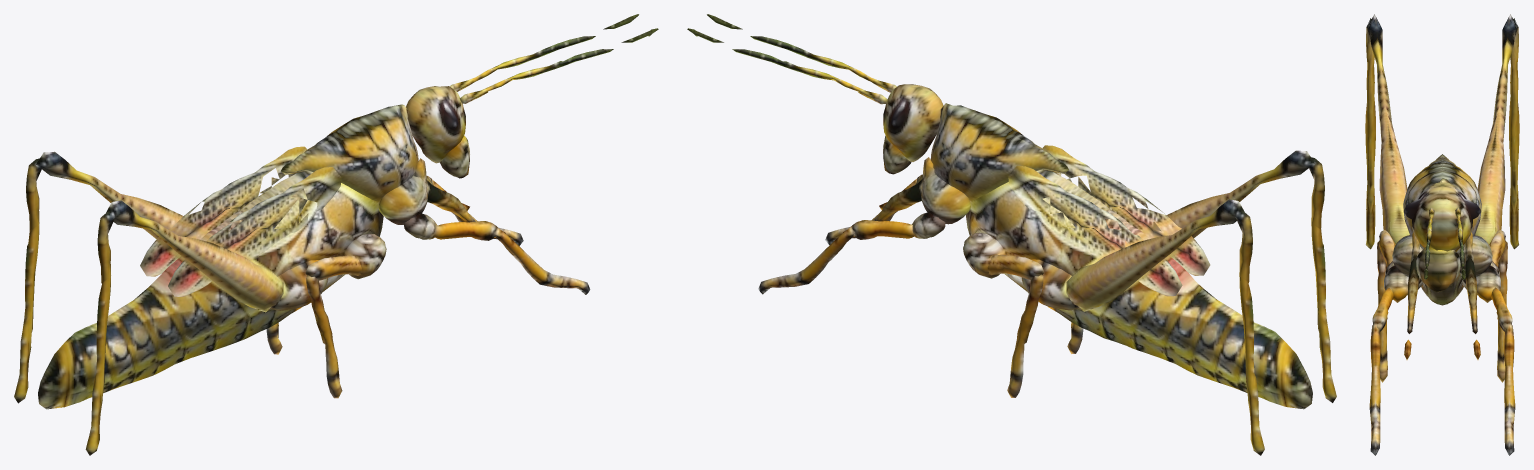
Rendered from sauterelle.glb.
3 renders of one model, left to right at view 1: azimuth 30°, elevation 25°; view 2: azimuth 150°, elevation 25°; view 3: azimuth 270°, elevation 25°, orthographic.
Parts seen in each view (by area): view 1: Object_2; view 2: Object_2; view 3: Object_2.
Boxes of the visible parts, left/top/right/bottom form: Object_2: left=14, top=14, right=658, bottom=455; Object_2: left=687, top=14, right=1336, bottom=455; Object_2: left=1365, top=14, right=1519, bottom=455.
Bounding box in the file's own units: 147 × 62.4 × 32.08.
Materials: 1 (1 with a texture image).
